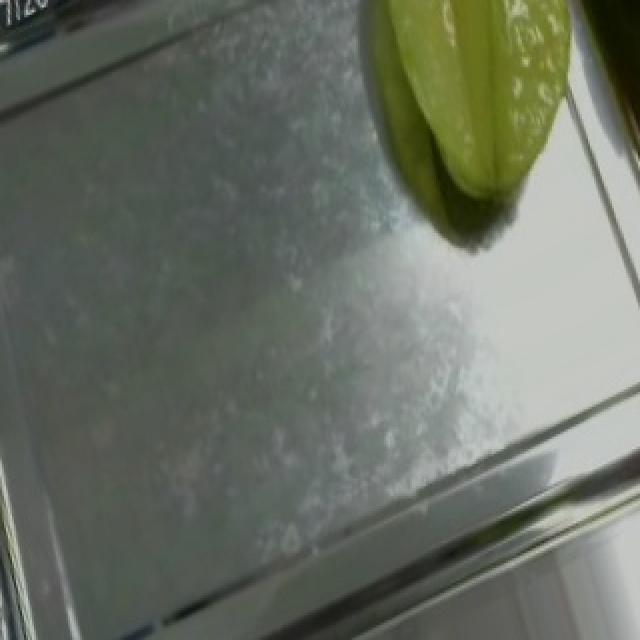fruit: (328, 0, 614, 238)
